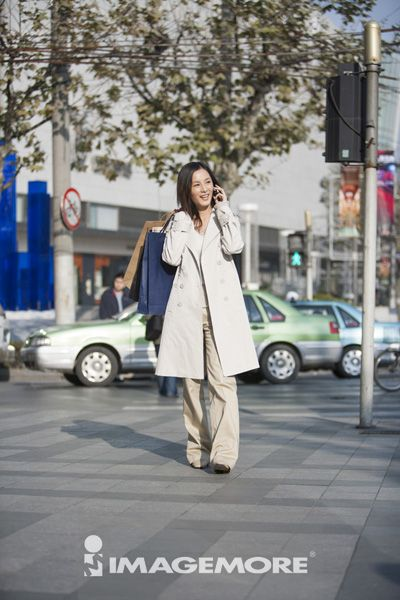talk: (192, 176, 228, 208)
